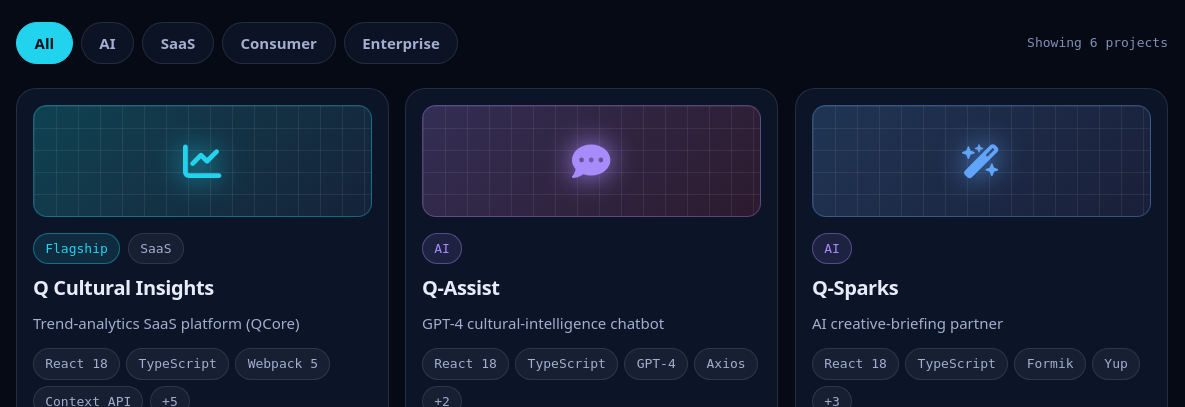
Scenario: Projects › filters to the AI projects and reports the count
Click the button "AI" at (107,43), box [81,22,134,64]
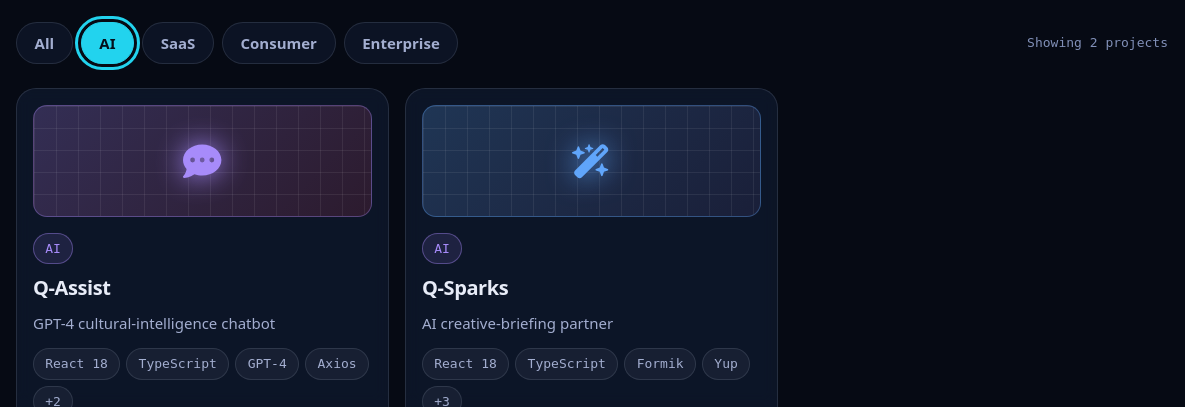
Expected: the heading "Q-Assist" is shown, [33,275,111,302]
Expected: the text "Showing 2 projects" is shown, [1027,32,1168,54]
